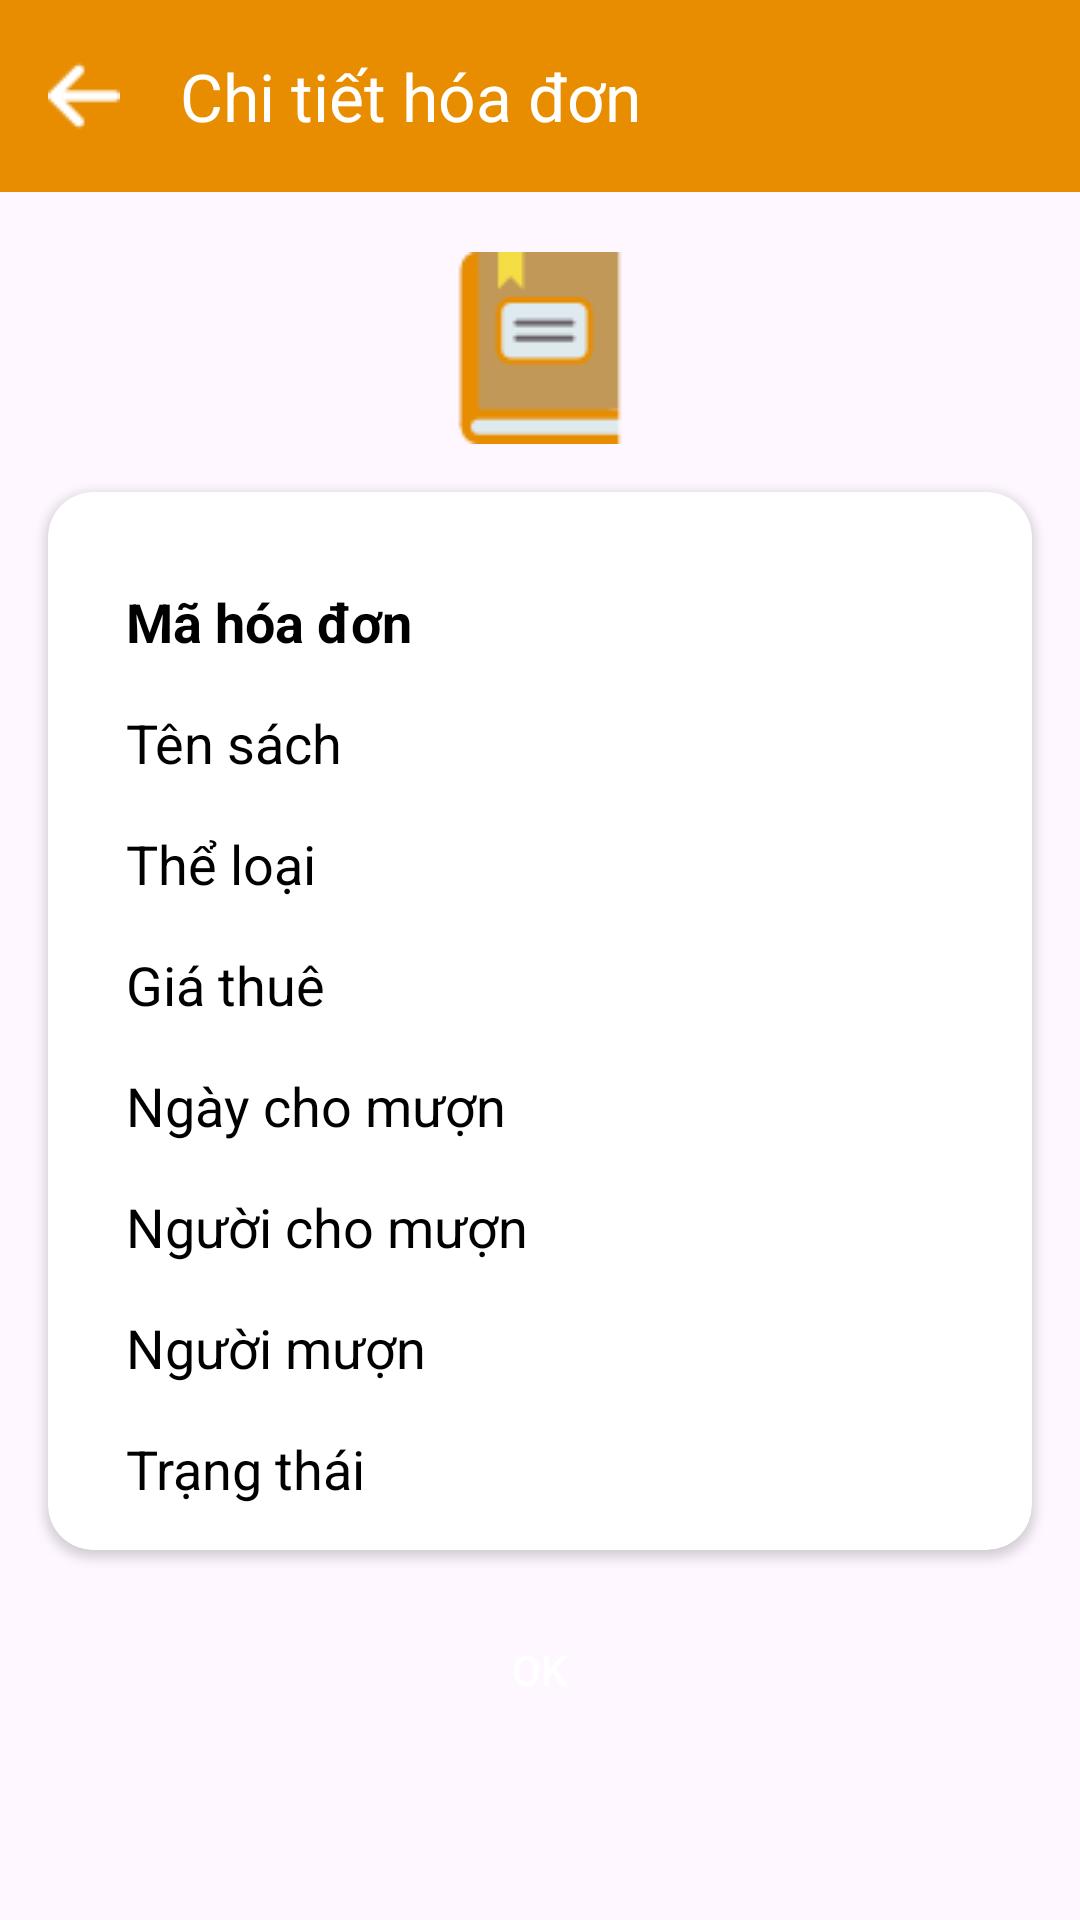

Icon bounding boxes for this 1080w x 1920h phone screenshot, format (x1, y1, x2, y2):
book bill: (458, 252, 621, 444)
